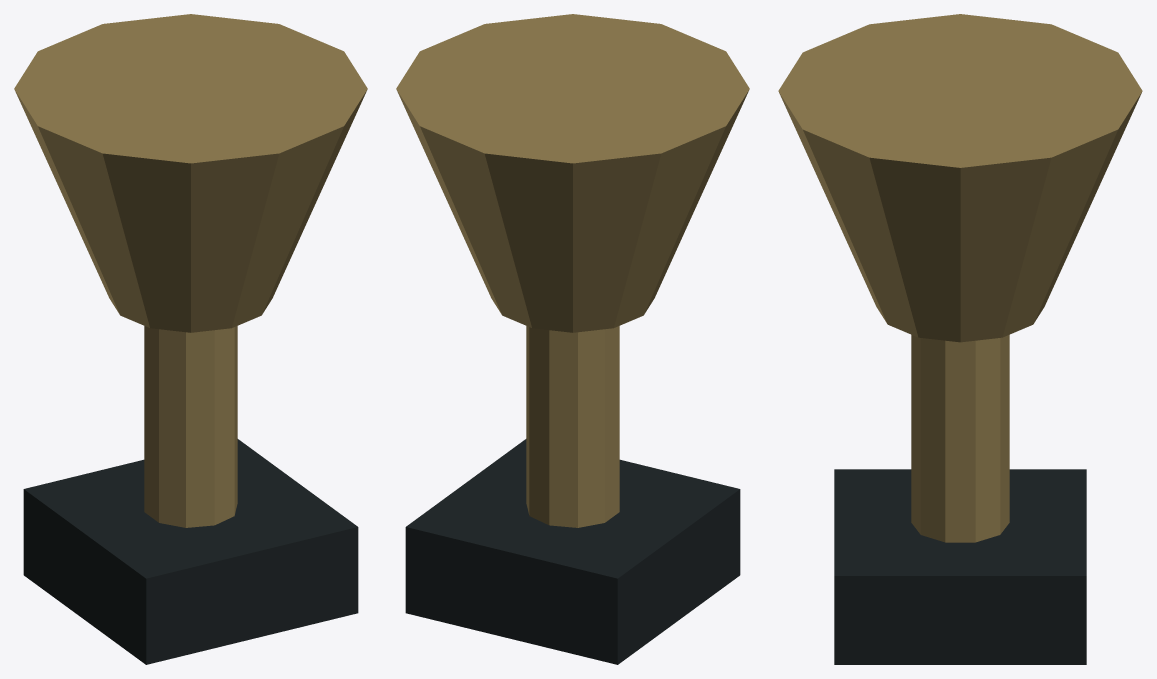
File: trophy.glb
3 renders of one model, left to right at view 1: azimuth 30°, elevation 25°; view 2: azimuth 150°, elevation 25°; view 3: azimuth 270°, elevation 25°, orthographic. The views are drawn at different scales.
Visible parts, largest first — view 1: trophy; view 2: trophy; view 3: trophy.
Boxes of the visible parts, left/top/right/bottom form: trophy: left=14, top=14, right=367, bottom=664; trophy: left=396, top=14, right=749, bottom=664; trophy: left=778, top=14, right=1142, bottom=664.
Size of the model in its own units: 0.26 by 0.41 by 0.26.
